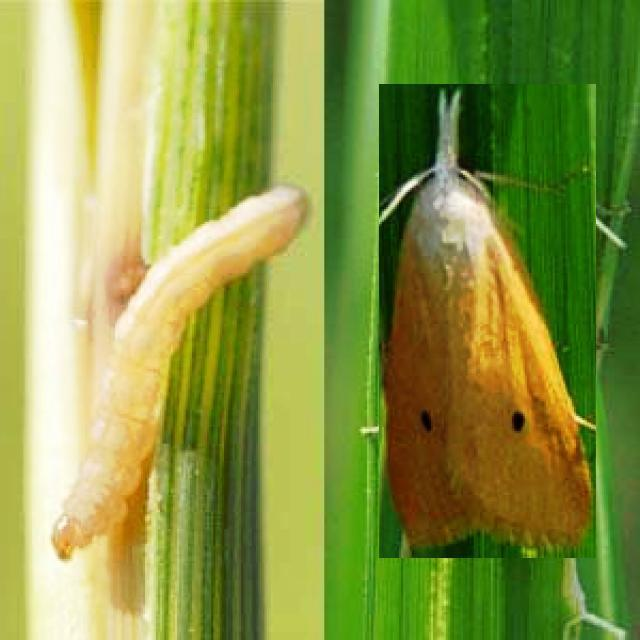stem-borer: (379, 84, 596, 558)
